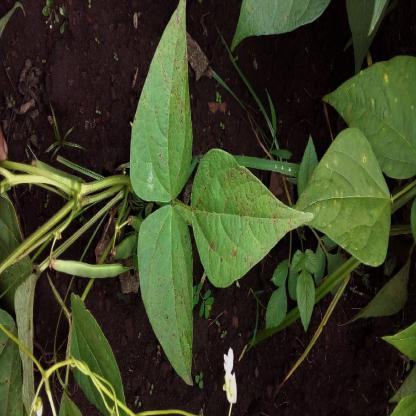Beans_Angular_LeafSpot: (196, 136, 312, 288), (130, 3, 199, 192), (138, 208, 195, 388)
